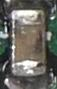Capacitor: (9, 9, 47, 77)
